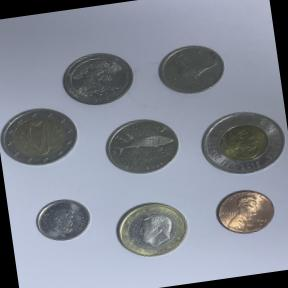coin: (190, 98, 288, 186), (94, 107, 188, 186), (106, 192, 197, 264), (0, 100, 84, 175), (57, 46, 140, 112), (207, 180, 281, 240), (28, 191, 95, 247)
